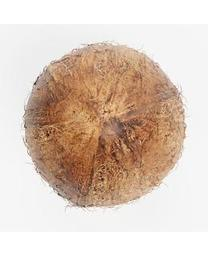coconut: (24, 40, 186, 208)
